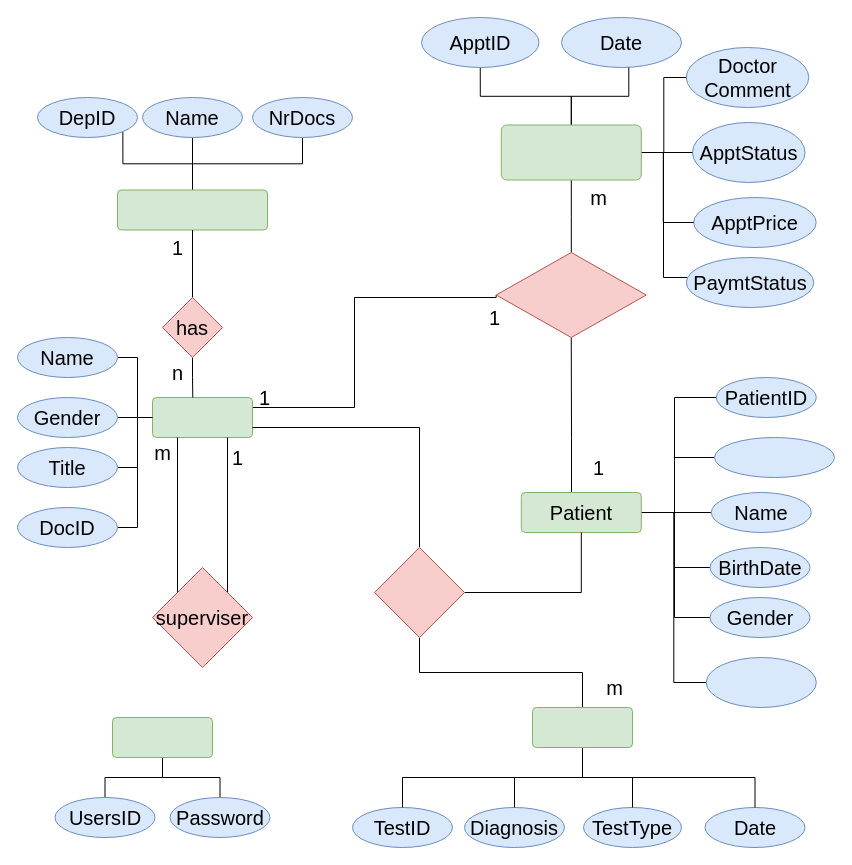
Some shapes in this 852 by 865 pixel diagram are drawn without their labels. Here are the shapes that lost their labels. From the top down, the centre of each, then its label:
At point 570,152: "Appointment".
At point 192,209: "Department".
At point 570,295: "Patient-Doctor Appt.".
At point 202,417: "Doctor".
At point 774,457: "InsuranceID".
At point 419,592: "Test Procedure".
At point 760,682: "Address".
At point 162,737: "Users Login".
At point 582,727: "Test".
